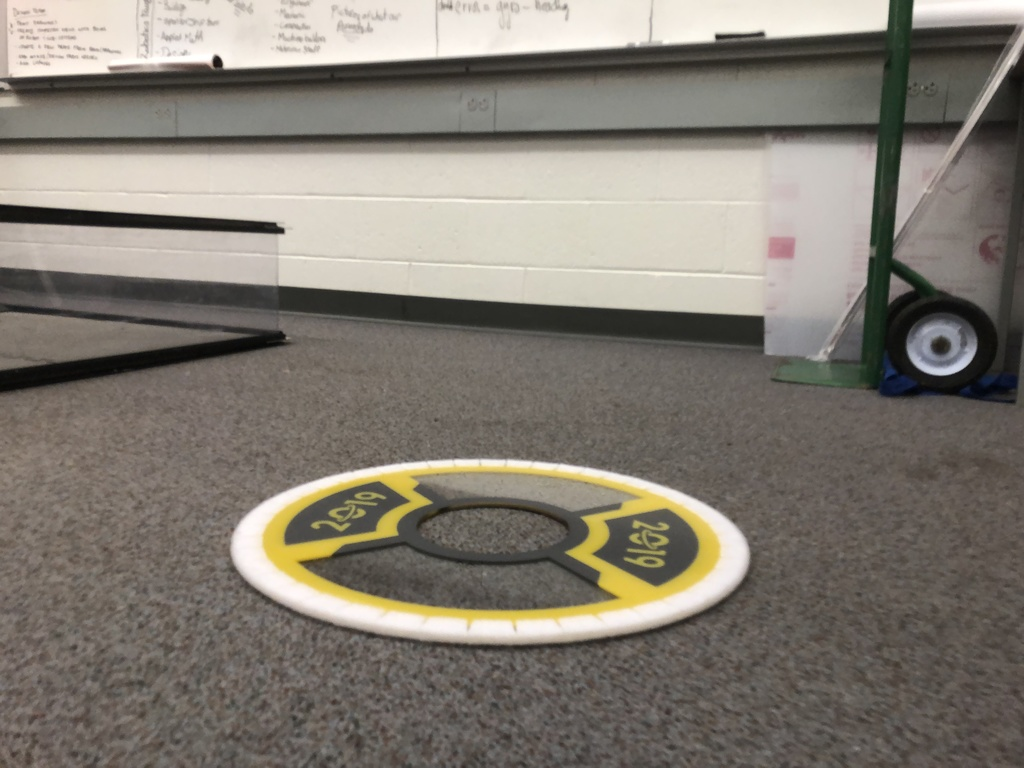hatch_panel: (215, 448, 779, 656)
